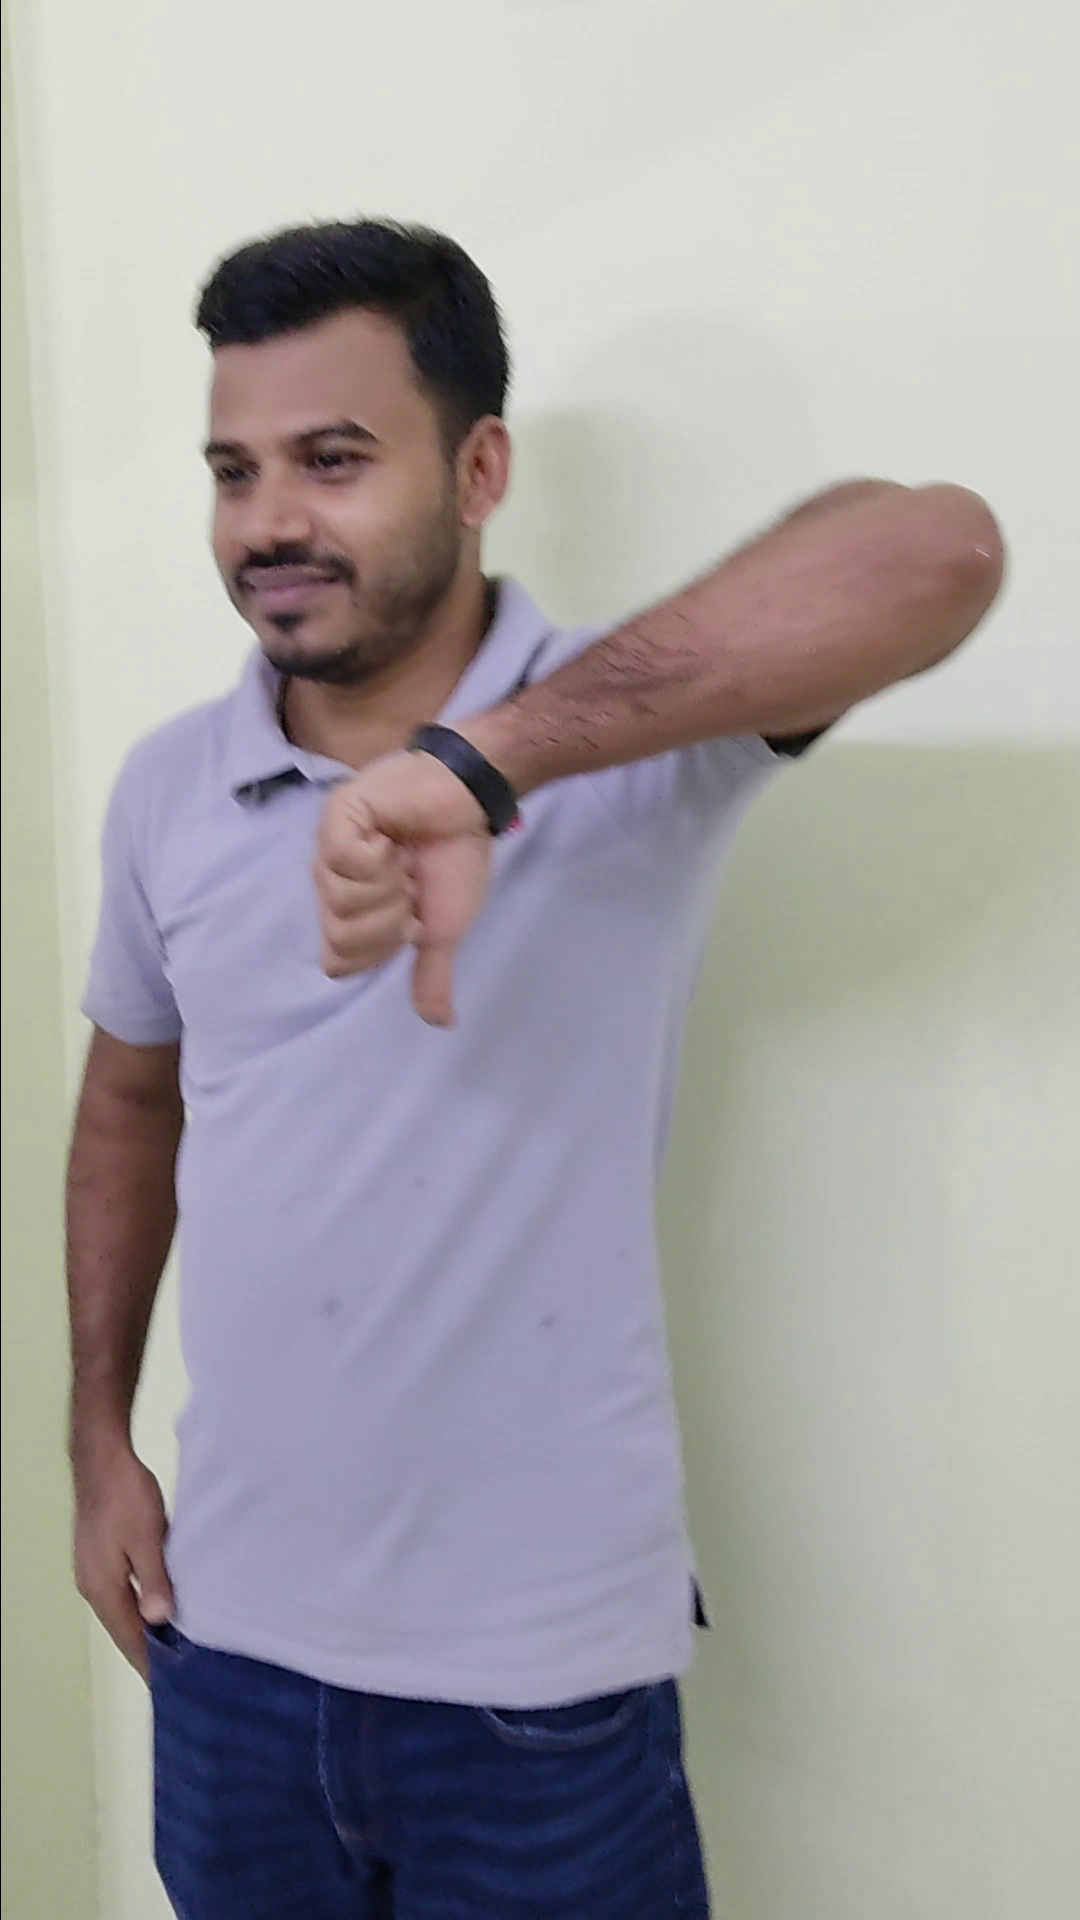Dislike: (287, 713, 516, 1040)
None: (45, 1404, 193, 1698)
